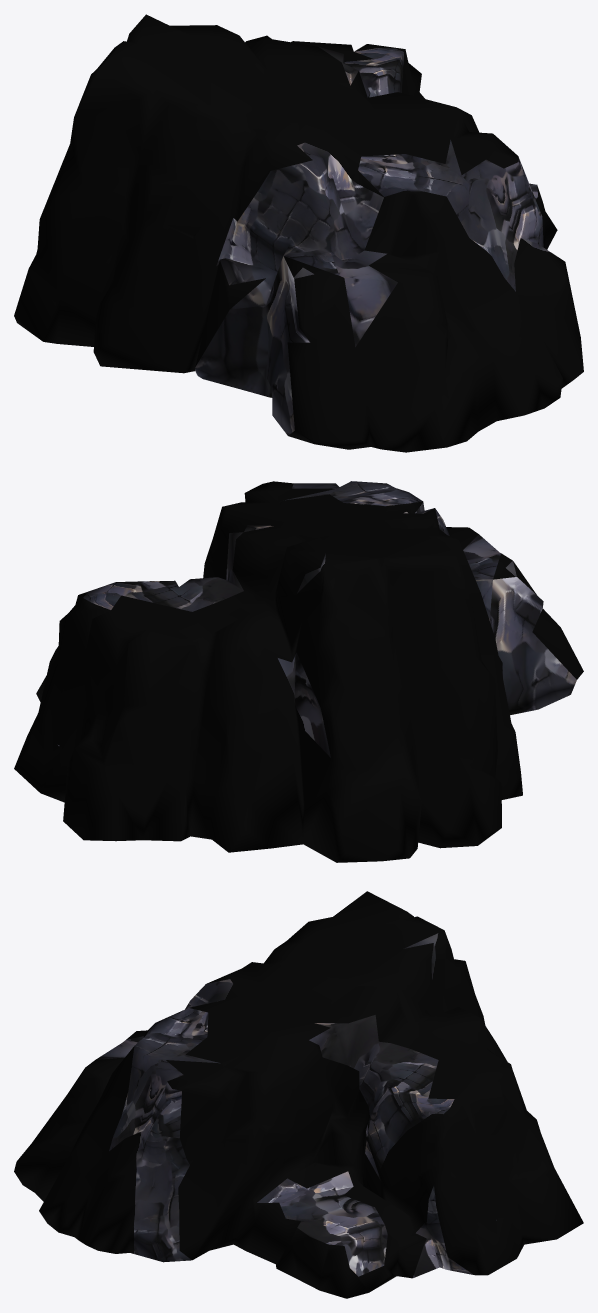
Rendered from RIP0 (2).obj.
3 views of the same model, one above another, from view 1: azimuth 30°, elevation 25°; view 2: azimuth 150°, elevation 25°; view 3: azimuth 270°, elevation 25° (orthographic). The views are drawn at different scales.
Visible parts, largest first — view 1: RIP0; view 2: RIP0; view 3: RIP0.
Boxes of the visible parts, left/top/right/bottom form: RIP0: left=14, top=14, right=583, bottom=452; RIP0: left=14, top=481, right=583, bottom=862; RIP0: left=14, top=891, right=583, bottom=1298.
Size of the model in its own units: 0.8721 by 0.438 by 1.
